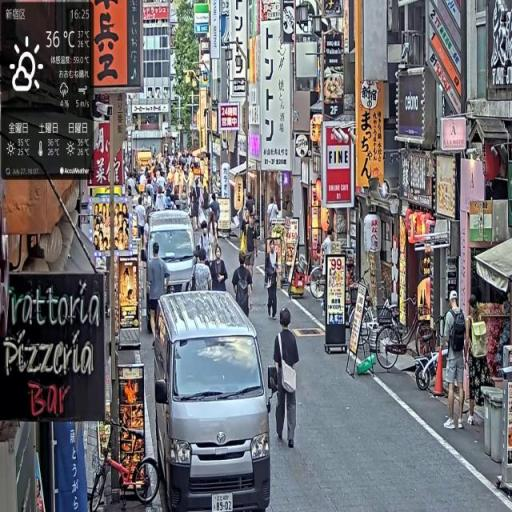person: (441, 290, 470, 433), (274, 308, 301, 451), (148, 242, 173, 339), (232, 254, 255, 318), (265, 237, 281, 321), (210, 246, 230, 293), (193, 250, 212, 293)
